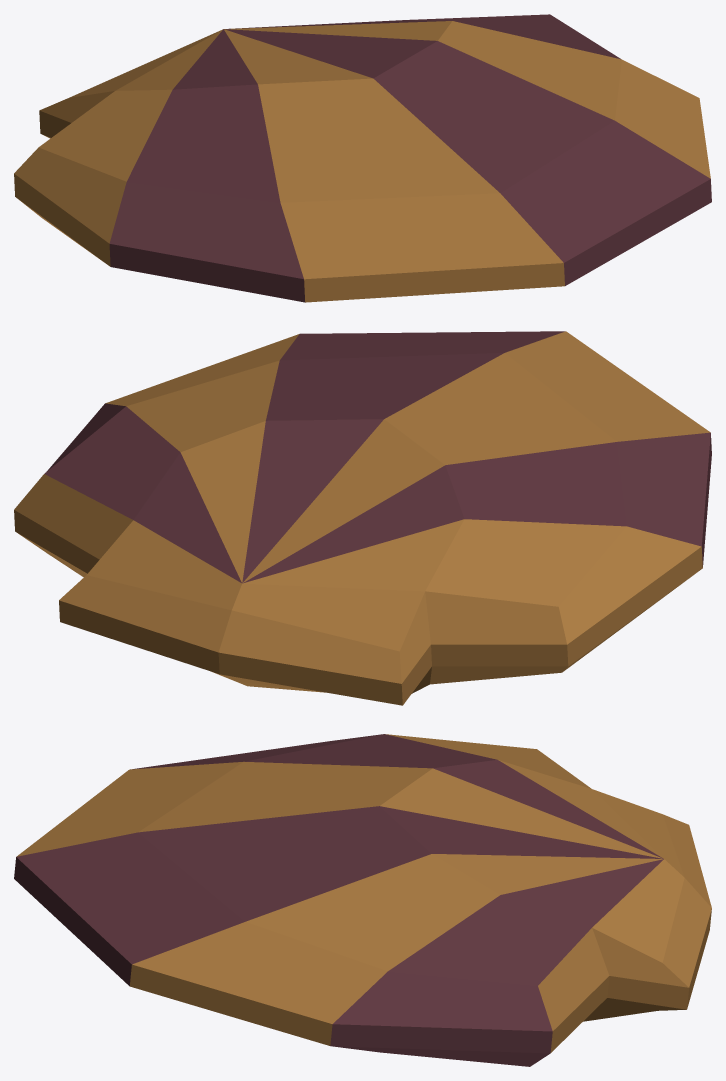
File: nature-clam.glb
3 views of the same model, one above another, from view 1: azimuth 30°, elevation 25°; view 2: azimuth 150°, elevation 25°; view 3: azimuth 270°, elevation 25° (orthographic). The views are drawn at different scales.
Parts seen in each view (by area): view 1: clam; view 2: clam; view 3: clam.
Part boxes in pixels (left/top/right/bottom): clam: left=14, top=14, right=711, bottom=302; clam: left=14, top=331, right=711, bottom=705; clam: left=14, top=734, right=711, bottom=1066.
Bounding box in the file's own units: 0.1896 × 0.0527 × 0.198.
